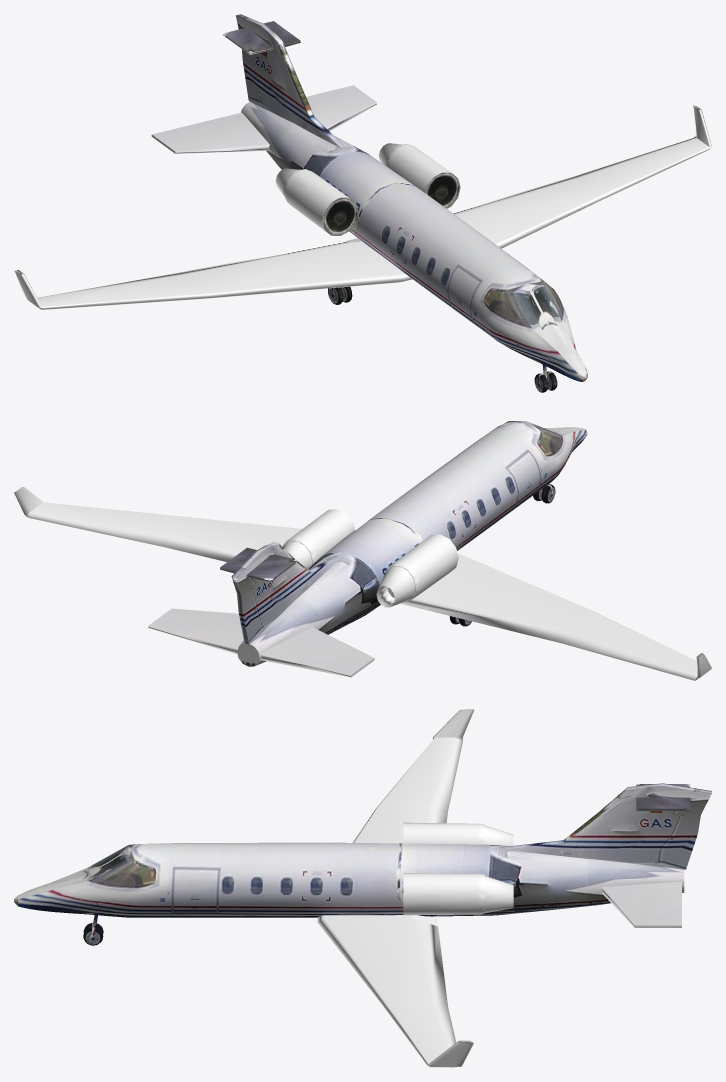
The model's file is learjet.obj.
3 views of the same model, one above another, from view 1: azimuth 30°, elevation 25°; view 2: azimuth 150°, elevation 25°; view 3: azimuth 270°, elevation 25° (orthographic).
Parts seen in each view (by area): view 1: learjet1:Mesh; view 2: learjet1:Mesh; view 3: learjet1:Mesh.
Boxes of the visible parts, <box> form: learjet1:Mesh: <box>14,14,711,392</box>; learjet1:Mesh: <box>14,421,711,680</box>; learjet1:Mesh: <box>14,709,711,1067</box>.
Size of the model in its own units: 36 by 8.07 by 31.82.
